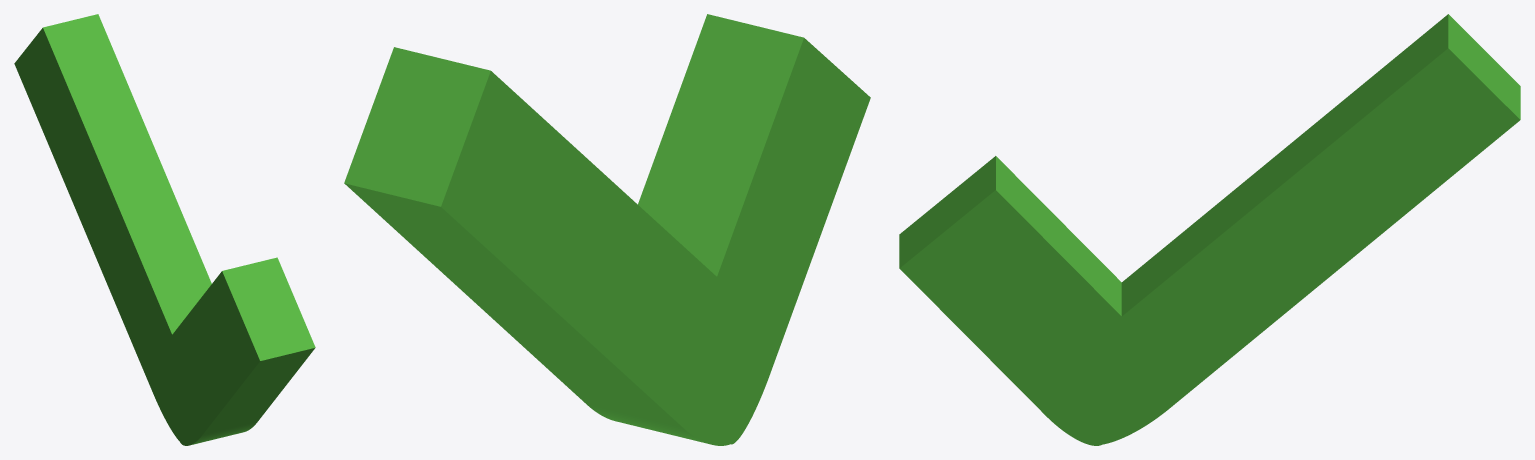
File: checkmark.glb
The picture shows the model from 3 angles, left to right: view 1: azimuth 30°, elevation 25°; view 2: azimuth 150°, elevation 25°; view 3: azimuth 270°, elevation 25°; orthographic projection. The views are drawn at different scales.
Visible parts, largest first — view 1: Cube.001; view 2: Cube.001; view 3: Cube.001.
Part boxes in pixels (x1,y1,x2,y2): Cube.001: [14, 14, 315, 445]; Cube.001: [344, 14, 870, 445]; Cube.001: [899, 14, 1520, 445].
Bounding box in the file's own units: 0.1694 × 0.9201 × 1.3.
